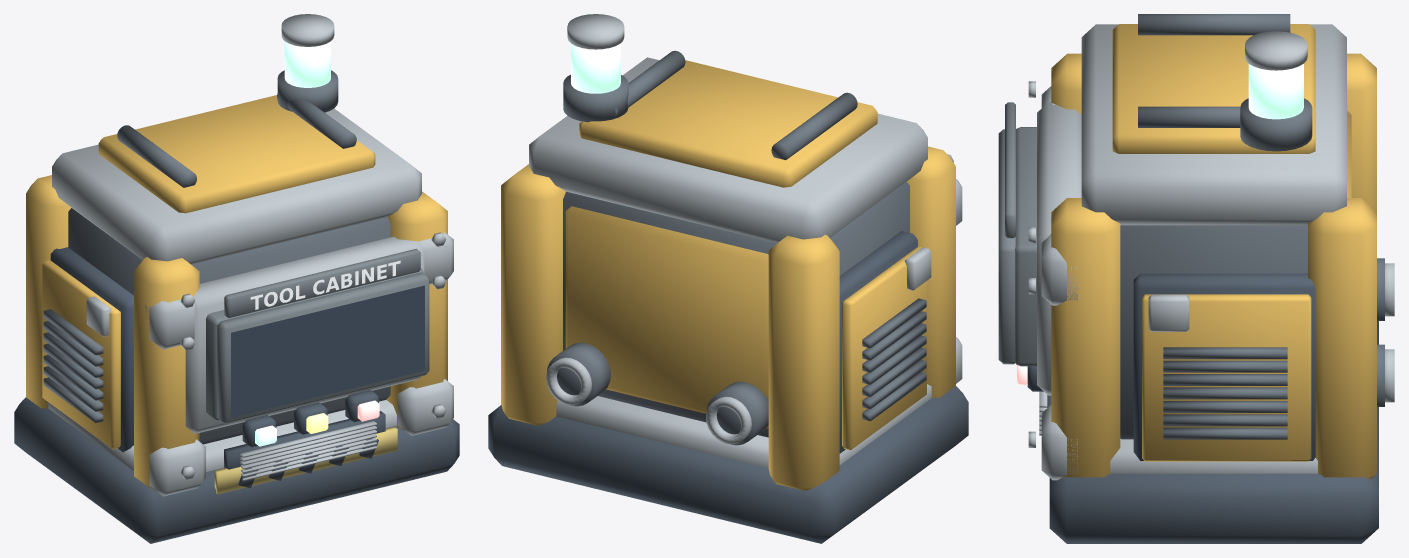
Rendered from tool_cabinet_enhanced.glb.
3 renders of one model, left to right at view 1: azimuth 30°, elevation 25°; view 2: azimuth 150°, elevation 25°; view 3: azimuth 270°, elevation 25°, orthographic. The views are drawn at different scales.
Visible parts, largest first — view 1: TopCap_steel_legacy_10, Base_black_legacy_0, Frame_orange_legacy_4, RoofPanel_orange_legacy_11, LiveViewSurface_glass, Housing_dark_legacy_2, CornerGuard_steel_legacy_5, DisplayFrame_steel_legacy_13, ServiceDoor_orange_legacy_7, LiveViewSurfaceFrame_frame, Detail_steel_legacy_24, SideVents_dark_legacy_8 (+13 smaller); view 2: Frame_orange_legacy_4, Armor_orange_legacy_3, Base_black_legacy_0, TopCap_steel_legacy_10, RoofPanel_orange_legacy_11, Housing_dark_legacy_2, ServiceDoor_orange_legacy_7, Skirt_steel_legacy_1, SideVents_dark_legacy_8, RearPort_dark_legacy_29, LiftRail_dark_legacy_12, SidePanel_black_legacy_6 (+6 smaller); view 3: Frame_orange_legacy_4, TopCap_steel_legacy_10, Base_black_legacy_0, ServiceDoor_orange_legacy_7, RoofPanel_orange_legacy_11, Housing_dark_legacy_2, SideVents_dark_legacy_8, DisplayFrame_steel_legacy_13, SidePanel_black_legacy_6, LiftRail_dark_legacy_12, ScreenMount_frame, CornerGuard_steel_legacy_5 (+10 smaller).
Part boxes in pixels (box(x1,y1,x2,y2)): TopCap_steel_legacy_10: box(52, 108, 421, 264); Base_black_legacy_0: box(14, 397, 459, 543); Frame_orange_legacy_4: box(26, 175, 447, 491); RoofPanel_orange_legacy_11: box(98, 95, 375, 213); LiveViewSurface_glass: box(231, 285, 424, 417); Housing_dark_legacy_2: box(68, 208, 390, 444); CornerGuard_steel_legacy_5: box(145, 232, 453, 496); DisplayFrame_steel_legacy_13: box(185, 236, 424, 433); ServiceDoor_orange_legacy_7: box(42, 260, 120, 449); LiveViewSurfaceFrame_frame: box(217, 272, 429, 423); Detail_steel_legacy_24: box(180, 232, 446, 480); SideVents_dark_legacy_8: box(43, 309, 103, 422); Frame_orange_legacy_4: box(501, 146, 955, 490); Armor_orange_legacy_3: box(565, 206, 768, 428); Base_black_legacy_0: box(488, 386, 968, 543); TopCap_steel_legacy_10: box(529, 57, 927, 242); RoofPanel_orange_legacy_11: box(579, 60, 877, 187); Housing_dark_legacy_2: box(563, 182, 909, 437); ServiceDoor_orange_legacy_7: box(842, 246, 926, 450); Skirt_steel_legacy_1: box(556, 384, 931, 468); SideVents_dark_legacy_8: box(862, 298, 926, 421); RearPort_dark_legacy_29: box(547, 342, 768, 445); LiftRail_dark_legacy_12: box(615, 50, 857, 160); SidePanel_black_legacy_6: box(839, 231, 917, 453); Frame_orange_legacy_4: box(1051, 53, 1376, 478); TopCap_steel_legacy_10: box(1081, 24, 1346, 225); Base_black_legacy_0: box(1049, 321, 1378, 543); ServiceDoor_orange_legacy_7: box(1142, 294, 1311, 461); RoofPanel_orange_legacy_11: box(1112, 24, 1315, 153); Housing_dark_legacy_2: box(1120, 225, 1307, 439); SideVents_dark_legacy_8: box(1163, 347, 1287, 439); DisplayFrame_steel_legacy_13: box(1037, 102, 1081, 395); SidePanel_black_legacy_6: box(1133, 273, 1315, 460); LiftRail_dark_legacy_12: box(1138, 14, 1290, 127); ScreenMount_frame: box(1015, 127, 1036, 366); CornerGuard_steel_legacy_5: box(1041, 86, 1077, 480).
Bounding box in the file's own units: 1.43 × 1.65 × 1.27.
